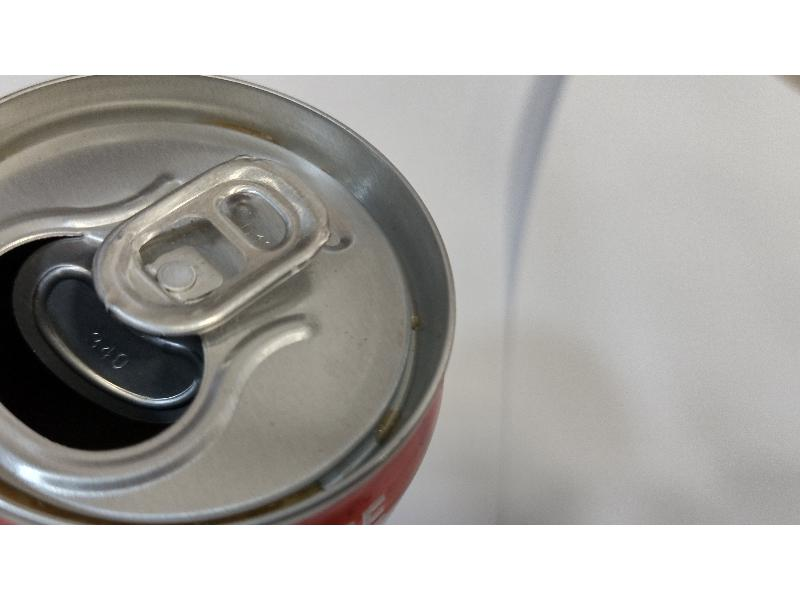can: (3, 75, 460, 525)
